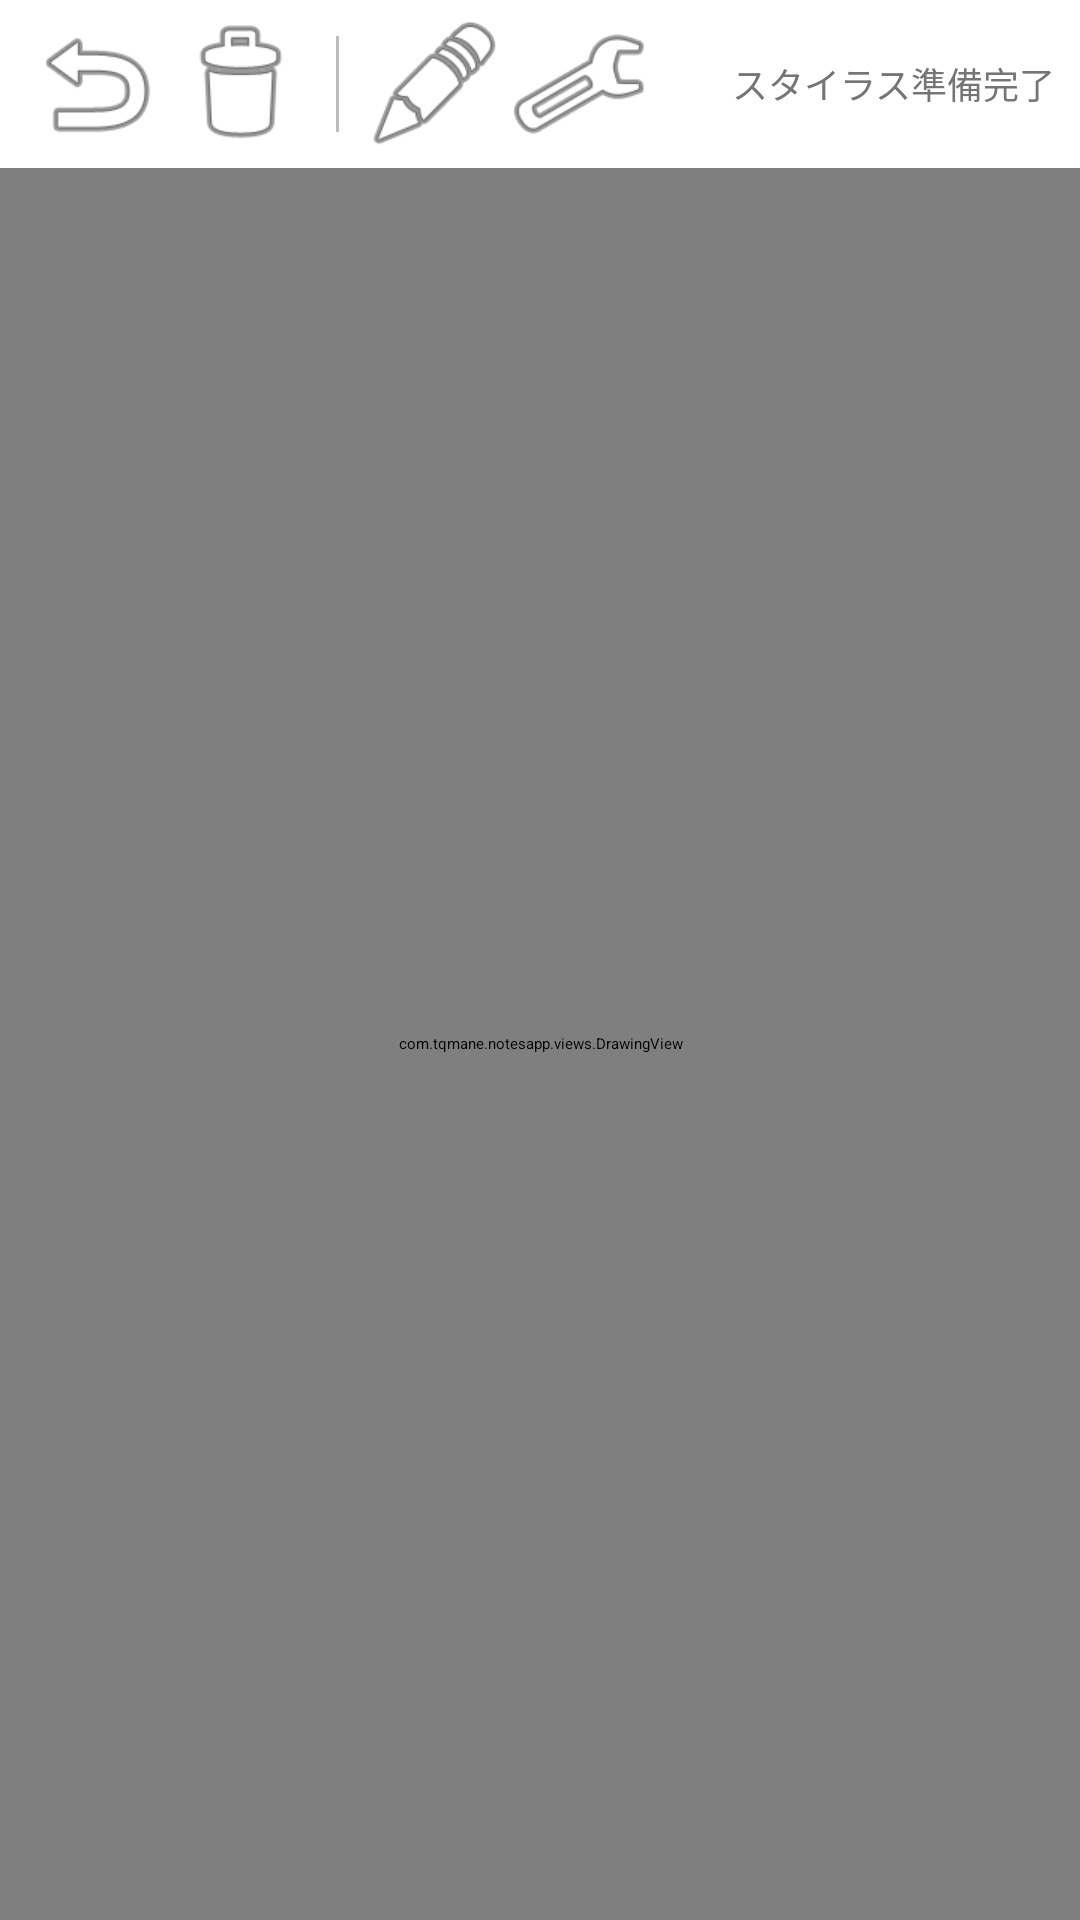

Named icons in this screenshot (1080*1920) and their bounding boxes, (x1, y1, x2, y2):
edit: (373, 22, 495, 144)
クリア: (200, 25, 282, 138)
元に戻す: (46, 38, 150, 132)
